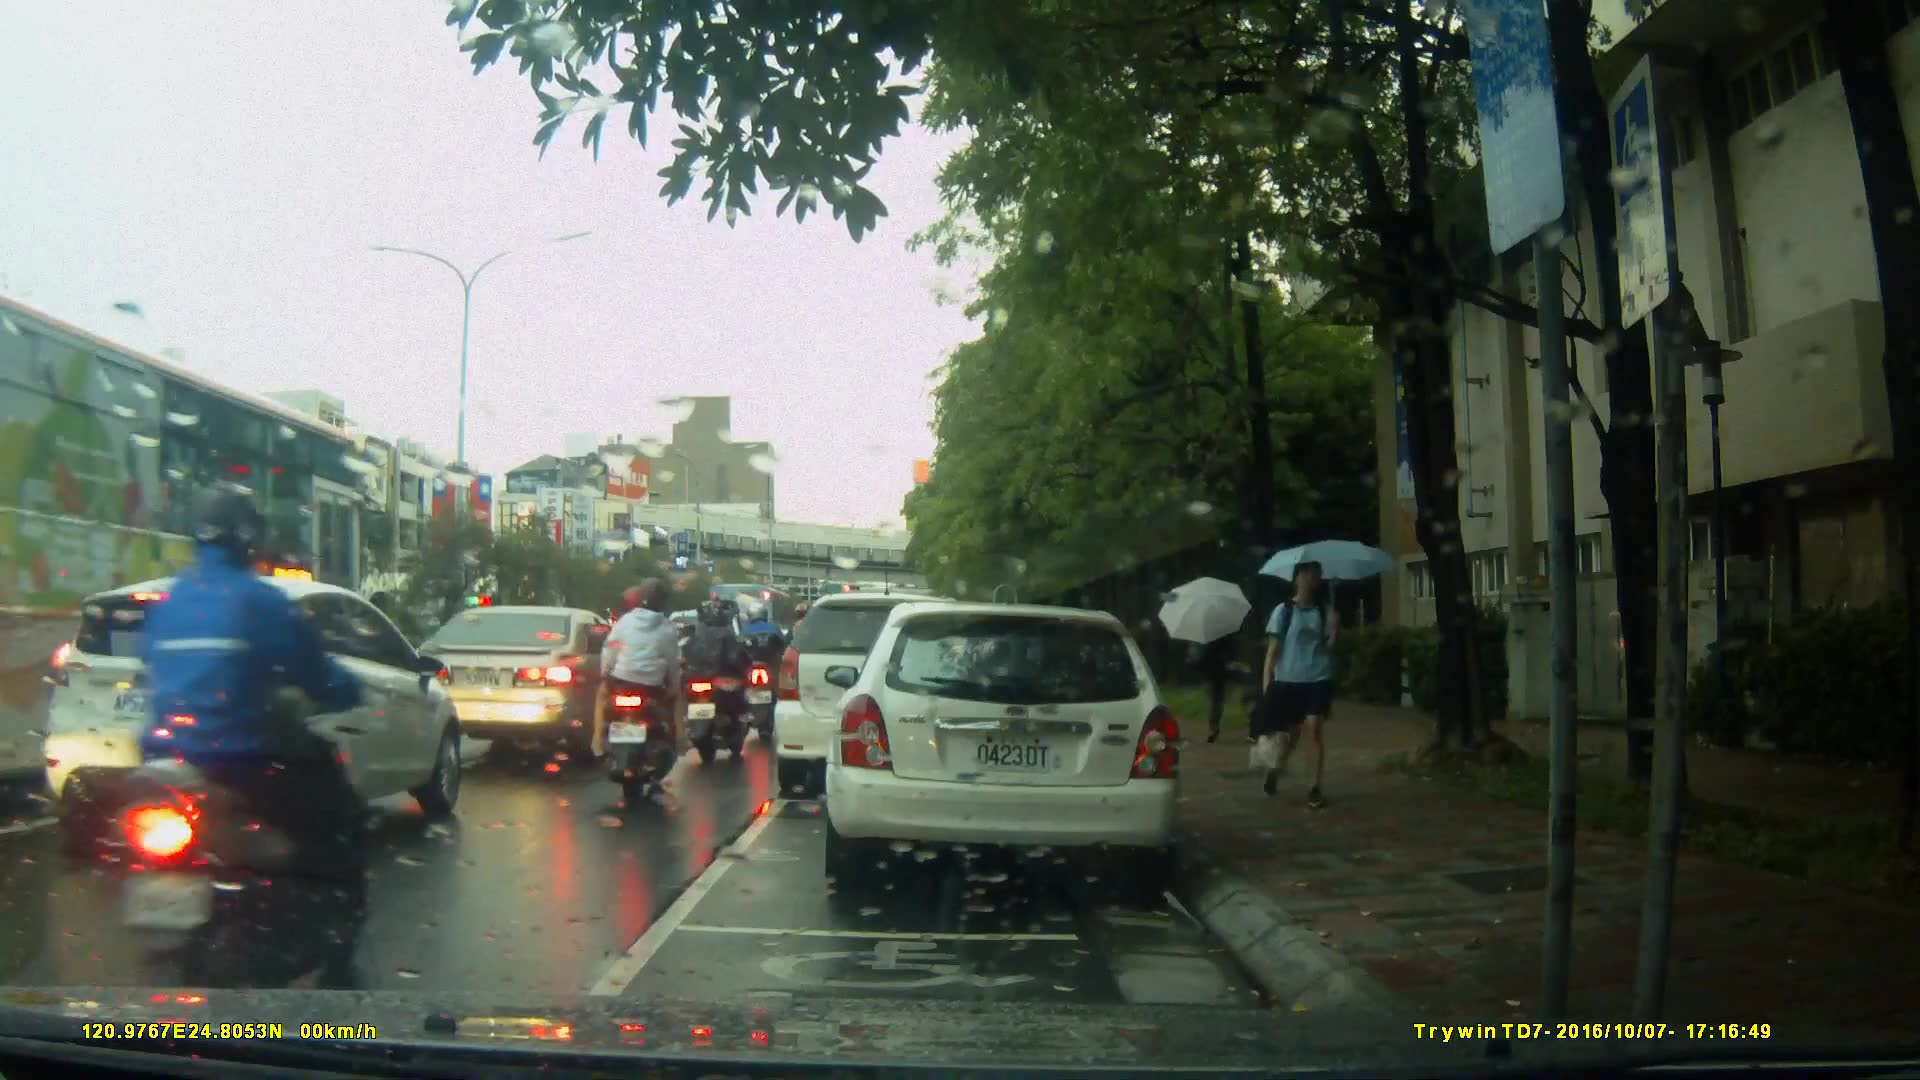pedestrian: (1241, 553, 1343, 817), (1194, 600, 1244, 738)
rider: (109, 488, 383, 1000), (598, 579, 690, 813), (683, 595, 740, 770), (733, 597, 791, 743), (788, 601, 824, 723)
vehicle: (1, 292, 371, 769), (43, 572, 467, 873), (835, 594, 1194, 898), (776, 590, 1026, 784), (387, 603, 645, 765), (603, 619, 728, 715), (707, 582, 805, 672)
